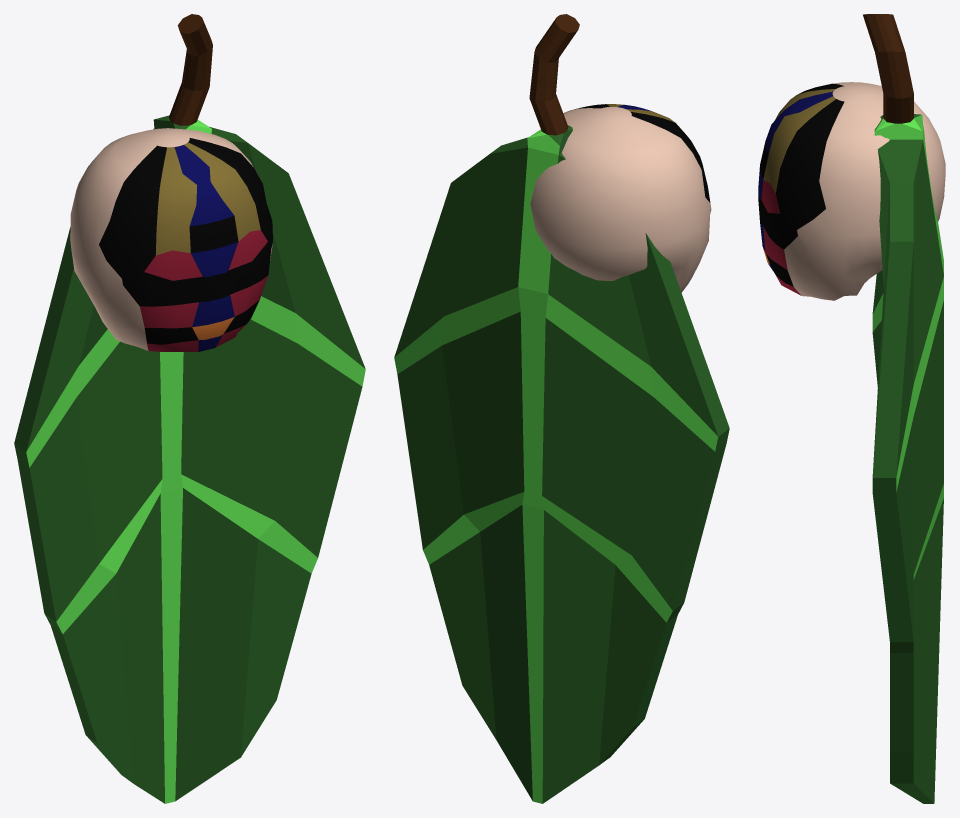
Rendered from VillagePersParts1.fbx.
3 renders of one model, left to right at view 1: azimuth 30°, elevation 25°; view 2: azimuth 150°, elevation 25°; view 3: azimuth 270°, elevation 25°, orthographic. The views are drawn at different scales.
Visible parts, largest first — view 1: Leaf, FaceSphere_Round; view 2: Leaf, FaceSphere_Round; view 3: Leaf, FaceSphere_Round.
Part boxes in pixels (left/top/right/bottom): Leaf: left=14, top=14, right=365, bottom=803; FaceSphere_Round: left=70, top=128, right=272, bottom=351; Leaf: left=394, top=14, right=729, bottom=803; FaceSphere_Round: left=530, top=104, right=711, bottom=292; Leaf: left=863, top=14, right=943, bottom=803; FaceSphere_Round: left=758, top=82, right=945, bottom=300.
Size of the model in its own units: 0.4631 by 1.04 by 0.2246.
